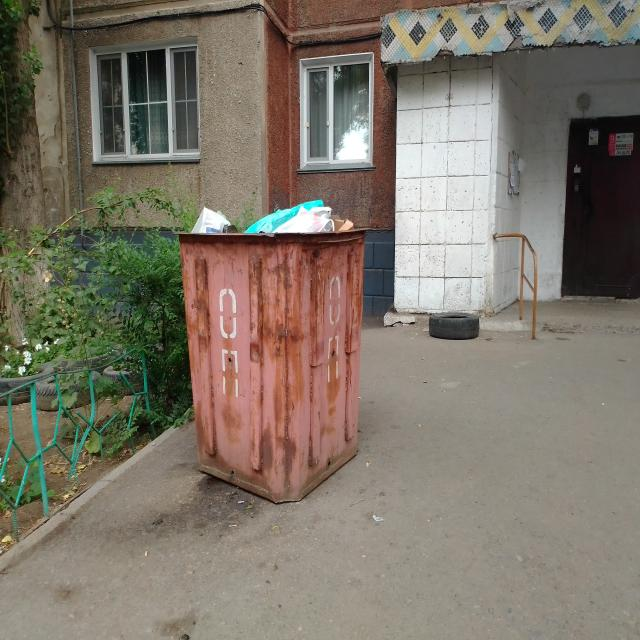bin: (179, 229, 366, 504)
plastic: (188, 195, 359, 231)
